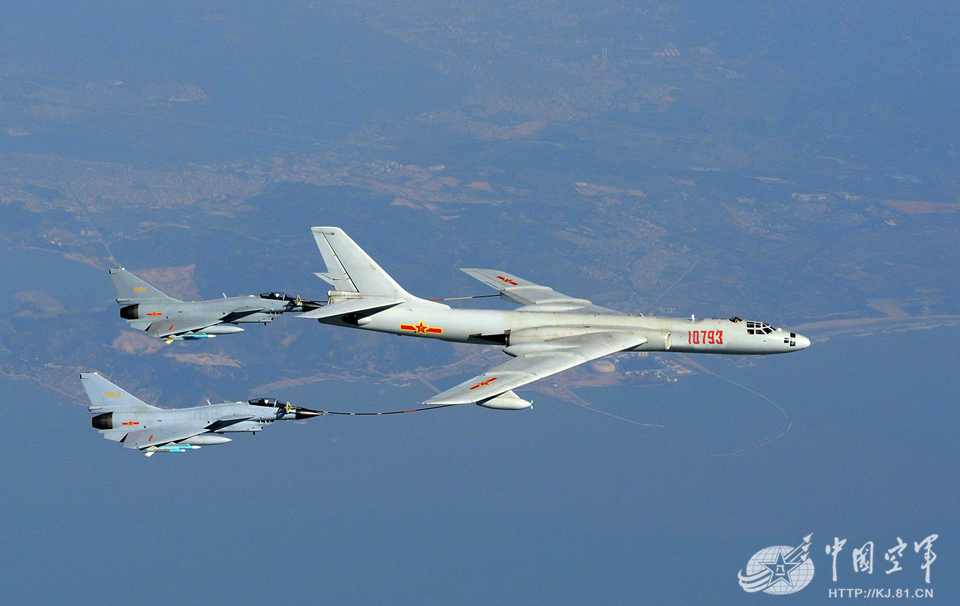airplane: (293, 218, 813, 409), (72, 364, 326, 452), (97, 261, 316, 342)
